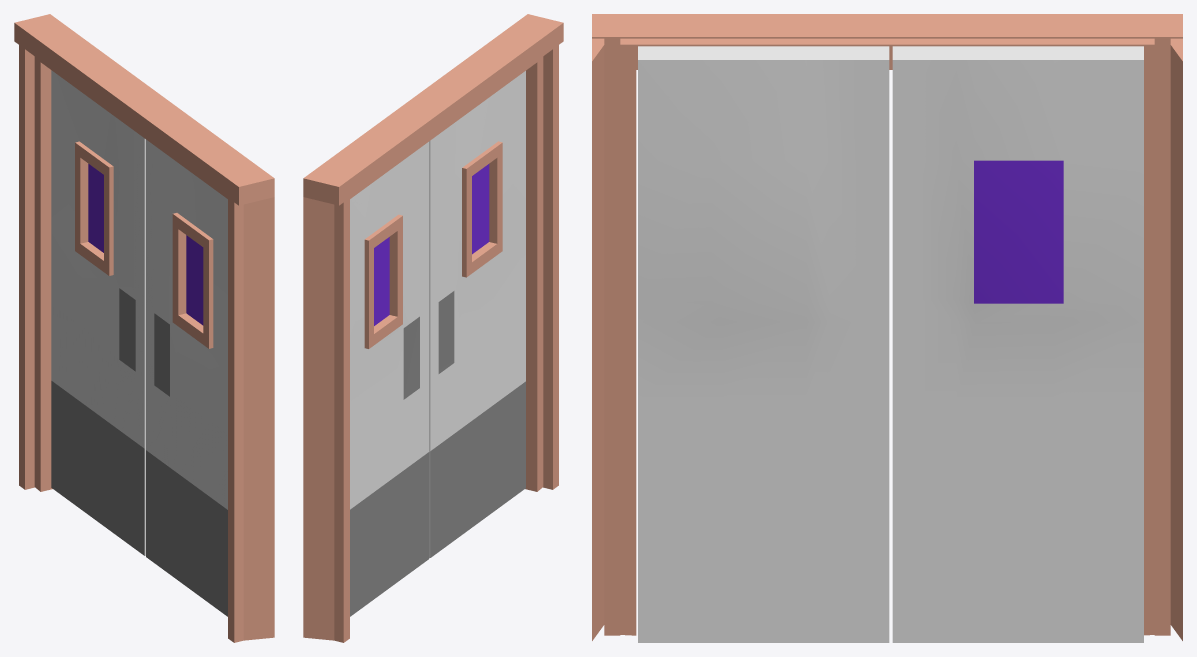
File: double porte.FBX
The picture shows the model from 3 angles, left to right: view 1: azimuth 30°, elevation 25°; view 2: azimuth 150°, elevation 25°; view 3: azimuth 270°, elevation 25°; orthographic projection. The views are drawn at different scales.
Parts seen in each view (by area): view 1: Porte; view 2: Porte; view 3: Porte.
Boxes of the visible parts, bbox=[...] form: Porte: bbox=[14, 14, 274, 642]; Porte: bbox=[303, 14, 563, 642]; Porte: bbox=[592, 14, 1182, 642].
Size of the model in its own units: 103 by 1053 by 933.
